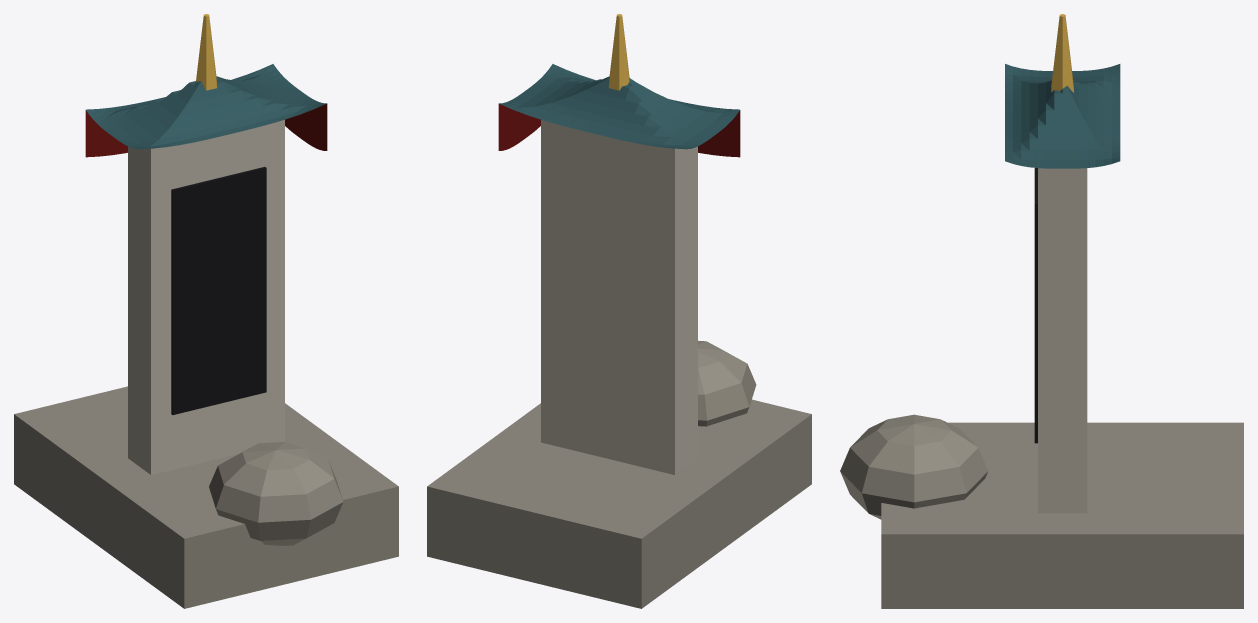
The model's file is stele.glb.
3 renders of one model, left to right at view 1: azimuth 30°, elevation 25°; view 2: azimuth 150°, elevation 25°; view 3: azimuth 270°, elevation 25°, orthographic. The views are drawn at different scales.
Parts seen in each view (by area): view 1: stele; view 2: stele; view 3: stele.
Part boxes in pixels (left/top/right/bottom): stele: left=14, top=14, right=398, bottom=608; stele: left=427, top=14, right=811, bottom=608; stele: left=840, top=14, right=1243, bottom=608.
Bounding box in the file's own units: 1.6 × 3.6 × 2.45.
